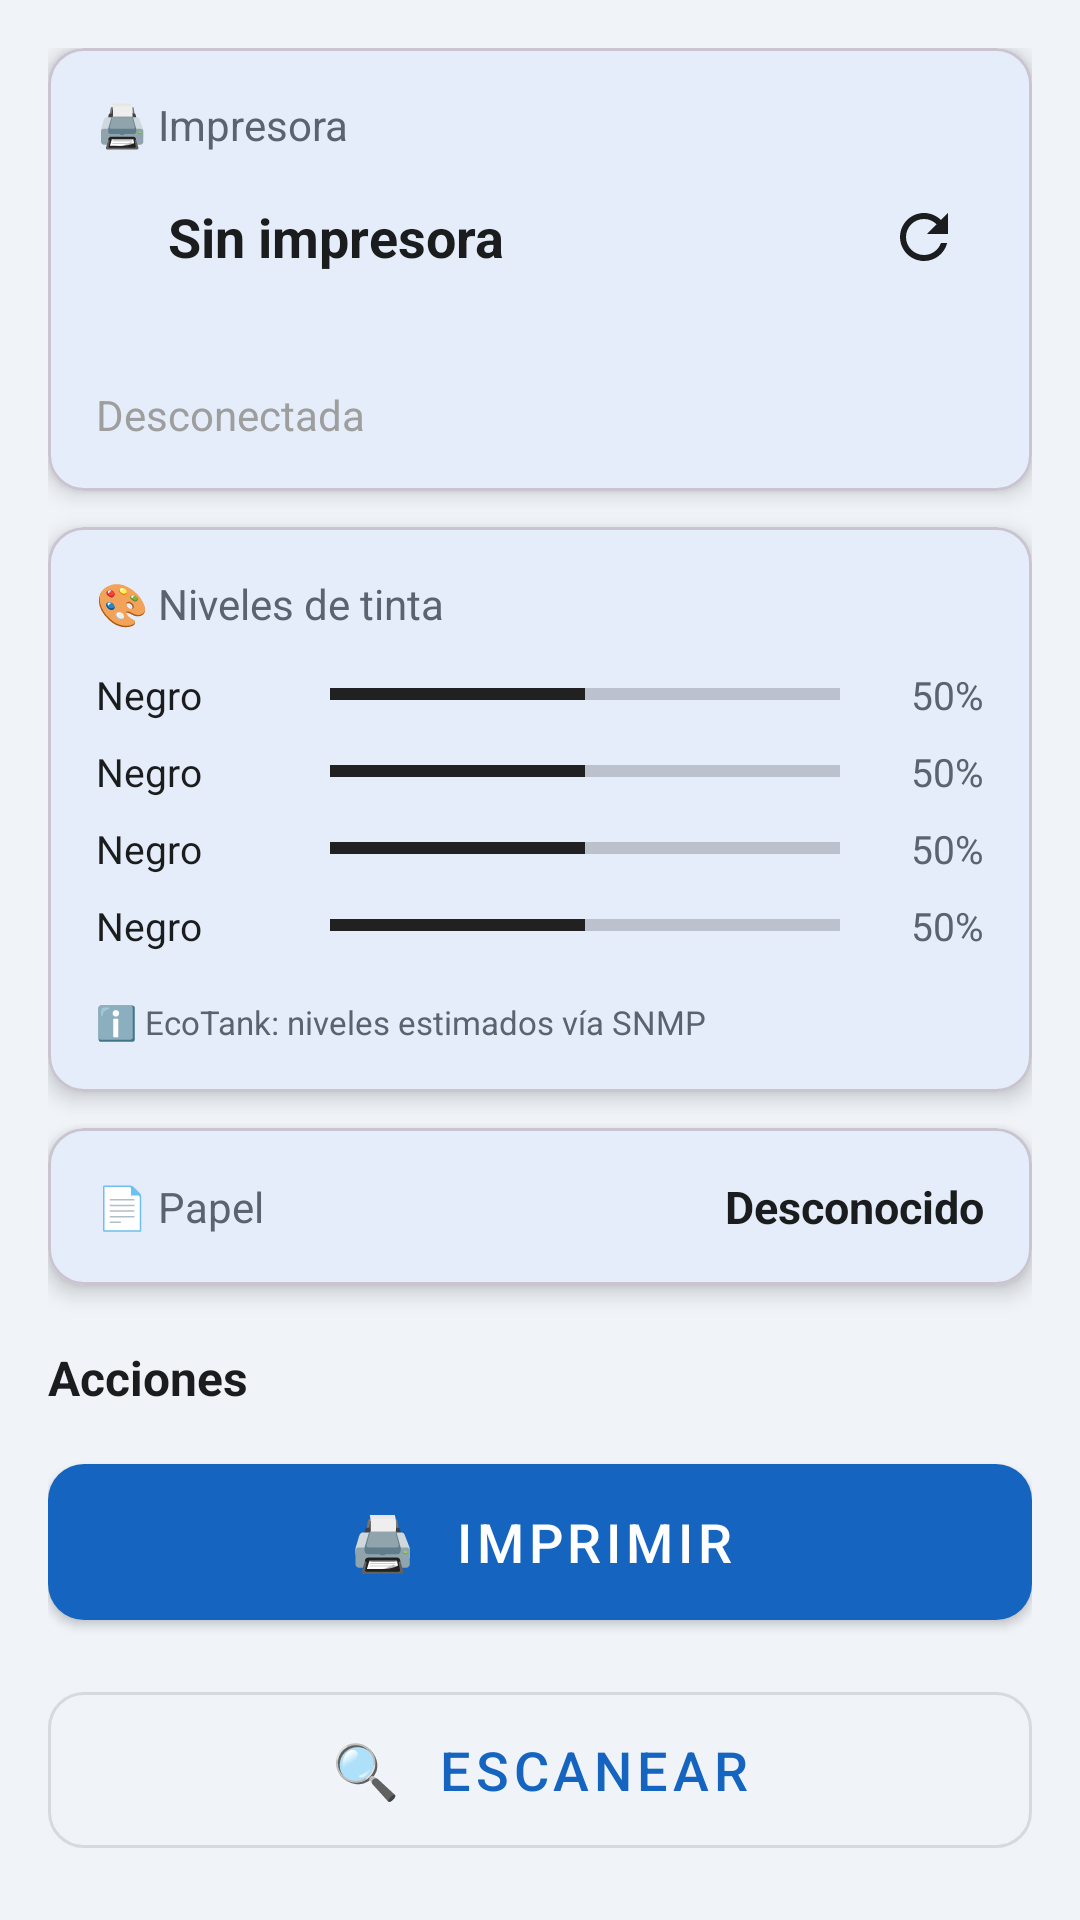

Where to tap for icons on this 1080 × 1920 app screen, as [x,y]:
Refrescar estado: [924,237]
